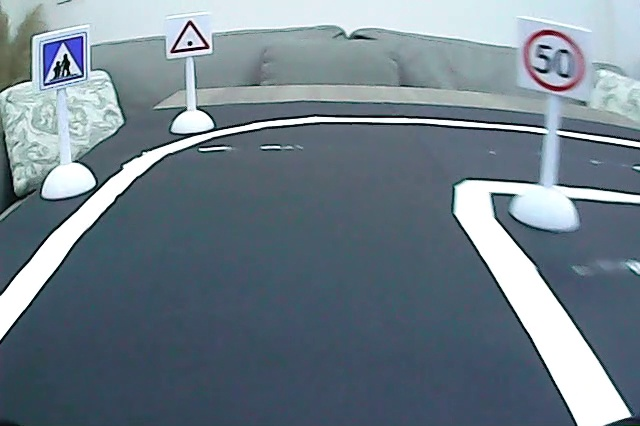green light: (168, 18, 211, 56)
school crossing: (38, 32, 87, 89)
speed limit 50: (518, 25, 590, 96)
